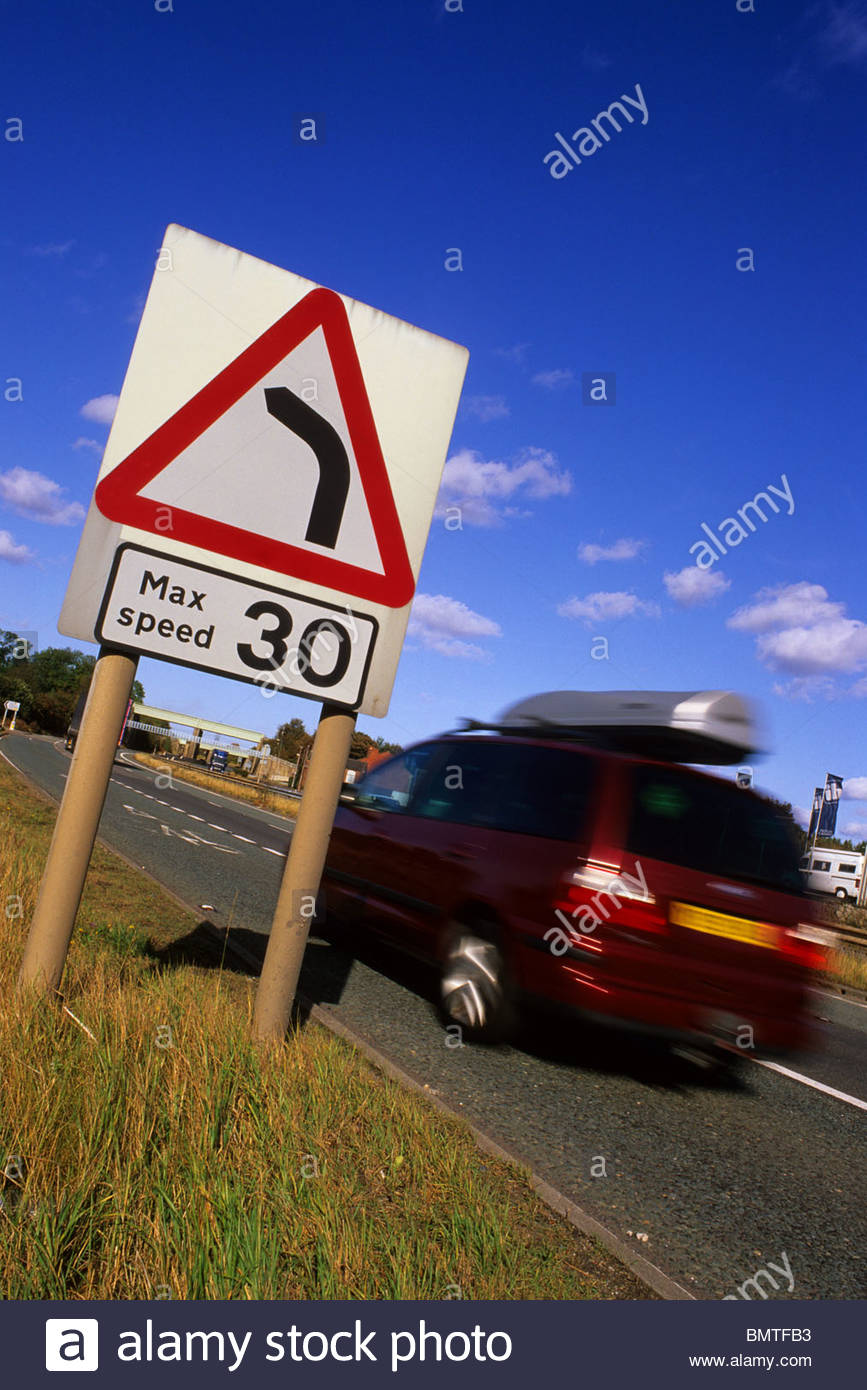Bend_to_left: (90, 285, 419, 608)
